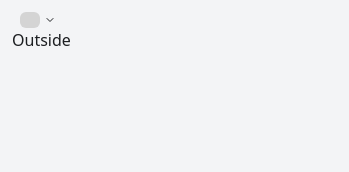
Scenario: CountryCodeSelector › Search › clears search when dropdown closes
Earlier steps of the test are not shown.
Expected: the field with placeholder "Buscar país" is not shown
Click the button at (38, 20), box [12,12,64,28]
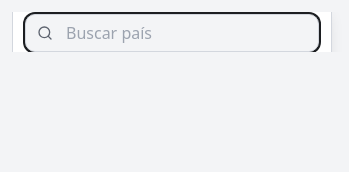
Expected: the field with placeholder "Buscar país" is empty, [25,14,319,52]
